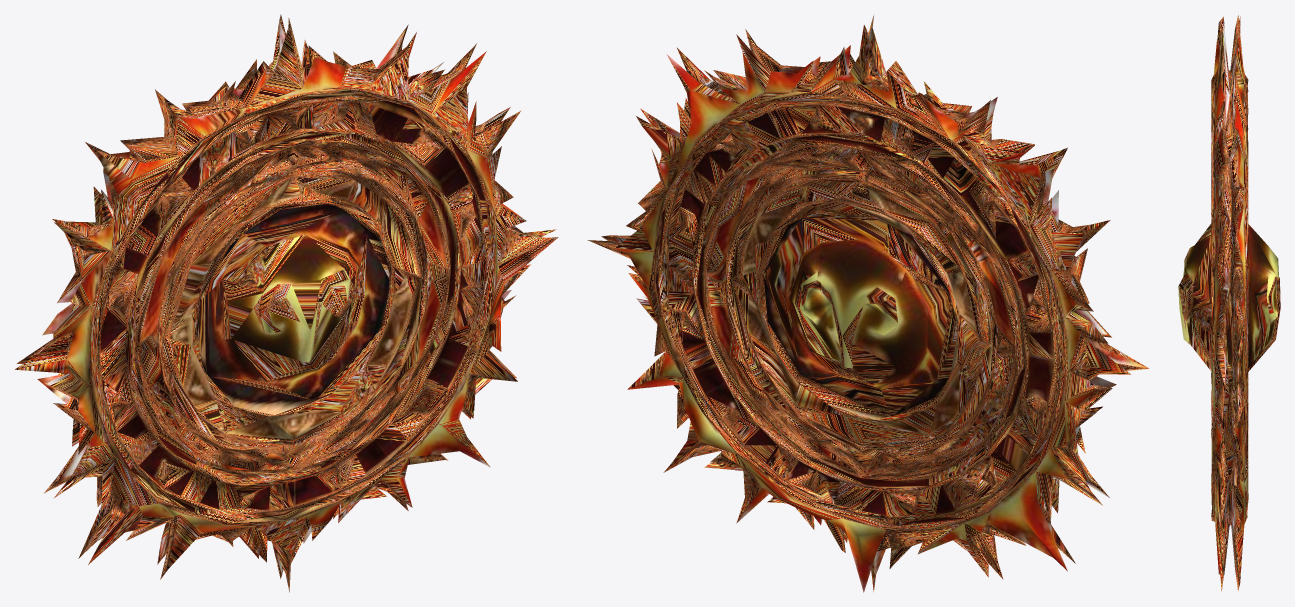
The model's file is aries-halo-lite.glb.
3 views of the same model, side by side, from view 1: azimuth 30°, elevation 25°; view 2: azimuth 150°, elevation 25°; view 3: azimuth 270°, elevation 25° (orthographic). The views are drawn at different scales.
Visible parts, largest first — view 1: node_0; view 2: node_0; view 3: node_0.
Part boxes in pixels (x1=…): node_0: x1=15, y1=14, x2=558, y2=592; node_0: x1=587, y1=15, x2=1148, y2=592; node_0: x1=1178, y1=15, x2=1280, y2=591.
Bounding box in the file's own units: 1.15 × 1.15 × 0.1957.
1 material, 1 textured.
